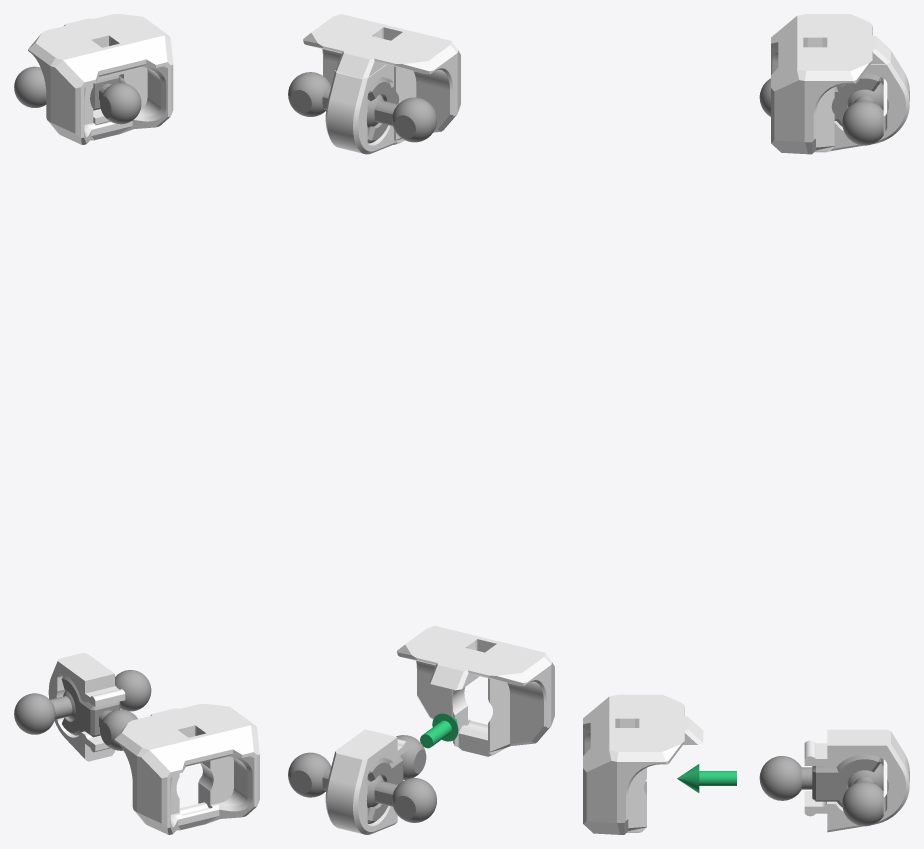
File: hips_c.glb
The picture shows the model from 3 angles, left to right: view 1: azimuth 30°, elevation 25°; view 2: azimuth 150°, elevation 25°; view 3: azimuth 270°, elevation 25°; orthographic projection. The views are drawn at different scales.
Parts seen in each view (by area): view 1: Body1.035, Body1.031, Body1.034, Body1.032, Body1.033, Body1.029, Body1.028; view 2: Body1.035, Body1.031, Body1.034, Body1.028, Body1.032, Body1.030, Body1.033, Arrow.005, Body1.029; view 3: Body1.035, Body1.031, Body1.034, Body1.033, Body1.030, Body1.028, Body1.032, Body1.029, Arrow.005.
Boxes of the visible parts, box(x1,y1,x2,y2) form: Body1.035: box(114, 704, 259, 834); Body1.031: box(28, 14, 173, 144); Body1.034: box(48, 653, 125, 761); Body1.032: box(14, 670, 151, 734); Body1.033: box(61, 675, 137, 750); Body1.029: box(90, 75, 141, 124); Body1.028: box(14, 66, 46, 107); Body1.035: box(397, 626, 554, 756); Body1.031: box(303, 14, 460, 144); Body1.034: box(325, 729, 408, 834); Body1.028: box(288, 72, 436, 142); Body1.032: box(288, 752, 436, 822); Body1.030: box(325, 64, 396, 154); Body1.033: box(367, 735, 426, 823); Arrow.005: box(420, 713, 458, 748); Body1.029: box(367, 77, 399, 143); Body1.035: box(583, 694, 703, 834); Body1.031: box(771, 14, 890, 154); Body1.034: box(804, 729, 909, 832); Body1.033: box(759, 754, 881, 807); Body1.030: box(831, 51, 909, 150); Body1.028: box(842, 77, 883, 145); Body1.032: box(842, 758, 883, 826); Body1.029: box(759, 73, 881, 126); Arrow.005: box(677, 764, 736, 792).
Bounding box in the file's own units: 22 × 115 × 43.5.
